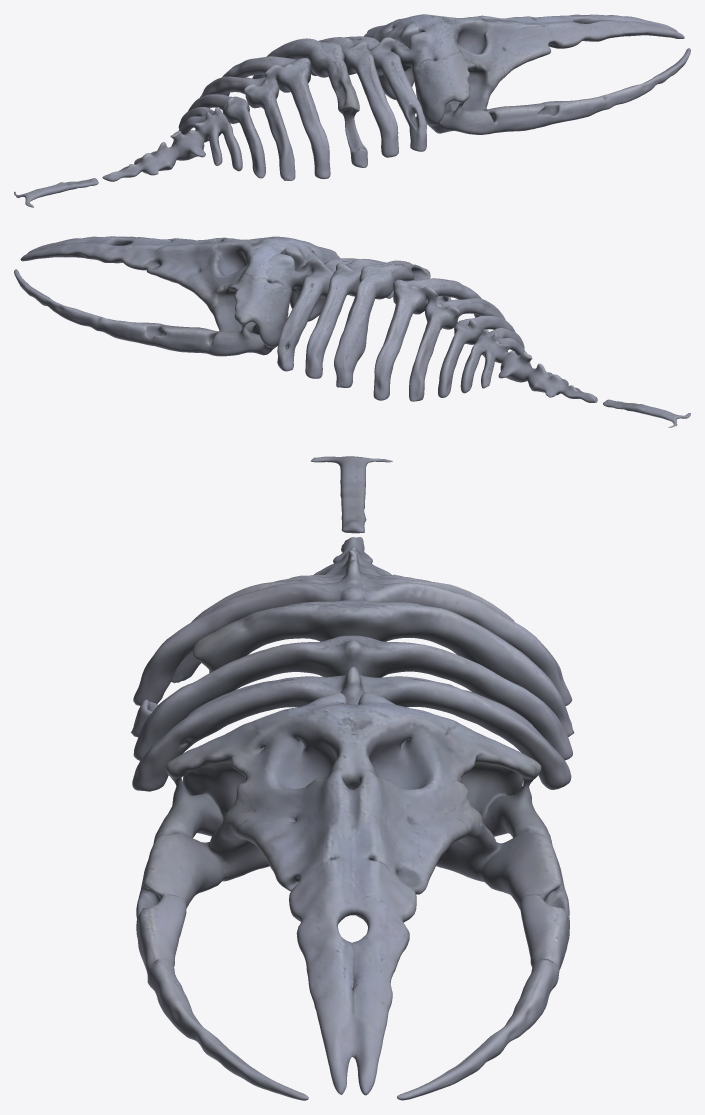
Rendered from esqueleto_ballena.glb.
The picture shows the model from 3 angles, top to bottom: view 1: azimuth 30°, elevation 25°; view 2: azimuth 150°, elevation 25°; view 3: azimuth 270°, elevation 25°; orthographic projection. The views are drawn at different scales.
Visible parts, largest first — view 1: tripo_node_6909c30d; view 2: tripo_node_6909c30d; view 3: tripo_node_6909c30d.
Boxes of the visible parts, bbox=[...] form: tripo_node_6909c30d: bbox=[14, 14, 690, 207]; tripo_node_6909c30d: bbox=[14, 236, 690, 427]; tripo_node_6909c30d: bbox=[130, 456, 574, 1100].
Size of the model in its own units: 99.69 by 12.32 by 29.06.
1 material, 1 textured.
